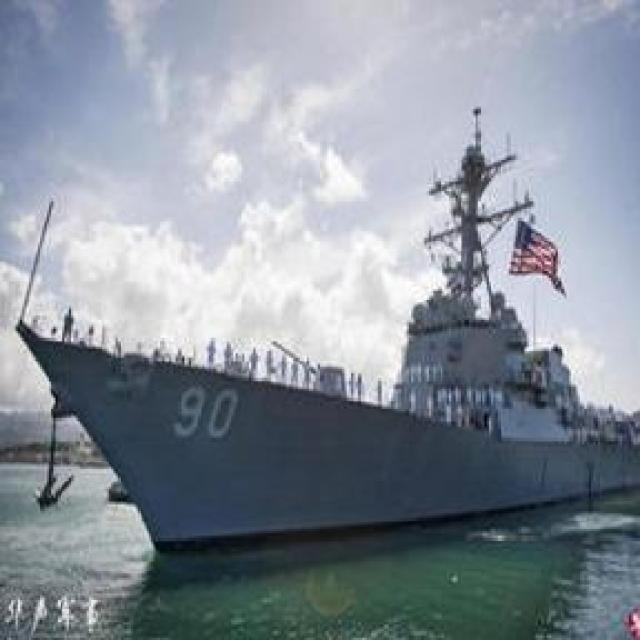navalvessels: (11, 113, 640, 638)
